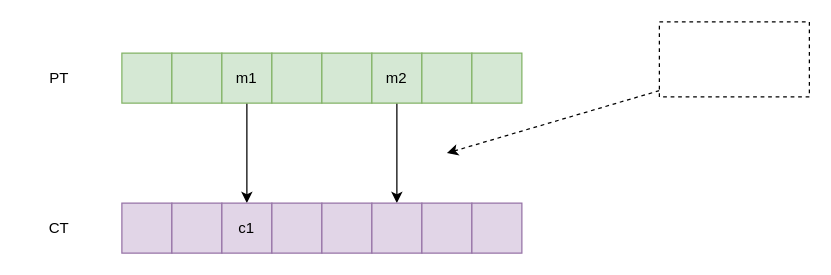
Some shapes in this 831 by 275 pixel diagram are drawn without their labels. The shapes that lost their labels are listed below. From the top down, each one's box as (x1, y1, x2, y2) in pixels, then its label:
(658, 21, 809, 97): Corresponding PT to CT. Leak information about the plain text
(371, 202, 422, 253): c2
